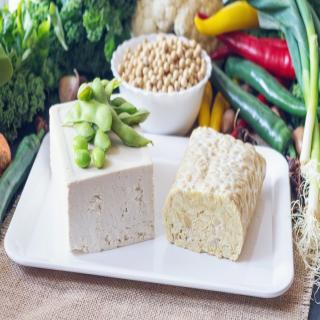Tempe: (166, 124, 269, 268)
